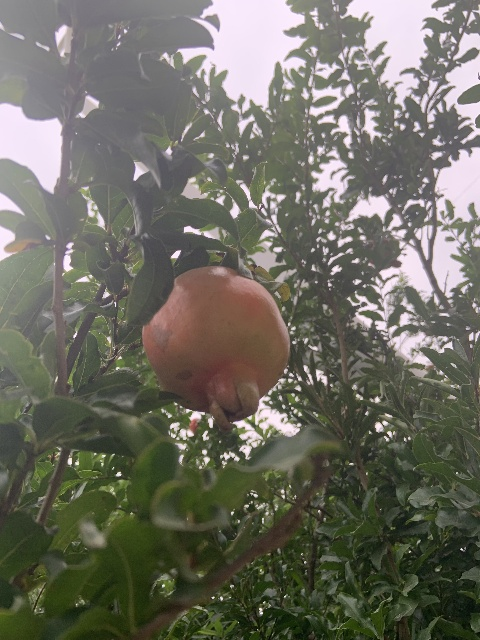ripe: (142, 266, 290, 432), (190, 418, 199, 433)
